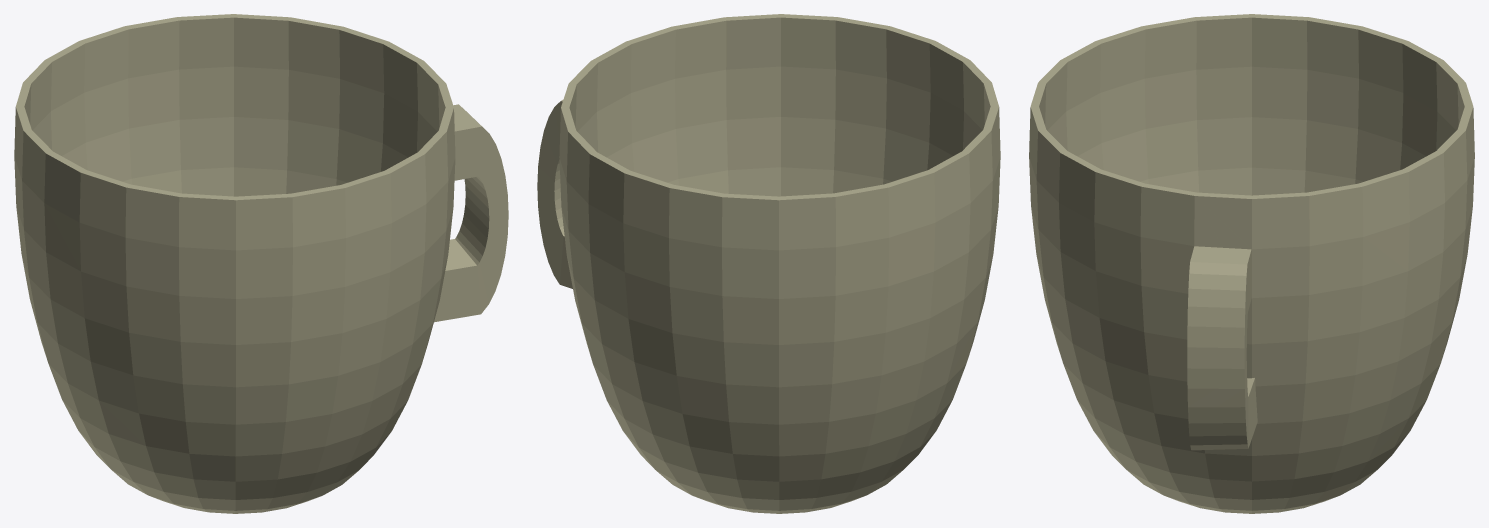
The picture shows the model from 3 angles, left to right: view 1: azimuth 30°, elevation 25°; view 2: azimuth 150°, elevation 25°; view 3: azimuth 270°, elevation 25°; orthographic projection.
Parts seen in each view (by area): view 1: mesh1_mesh1-geometry; view 2: mesh1_mesh1-geometry; view 3: mesh1_mesh1-geometry.
Part boxes in pixels (box(x1,y1,x2,y2)): mesh1_mesh1-geometry: box(14, 14, 508, 513); mesh1_mesh1-geometry: box(537, 14, 1000, 513); mesh1_mesh1-geometry: box(1029, 14, 1474, 513).
Bounding box in the file's own units: 0.6435 × 0.5135 × 0.5676.
